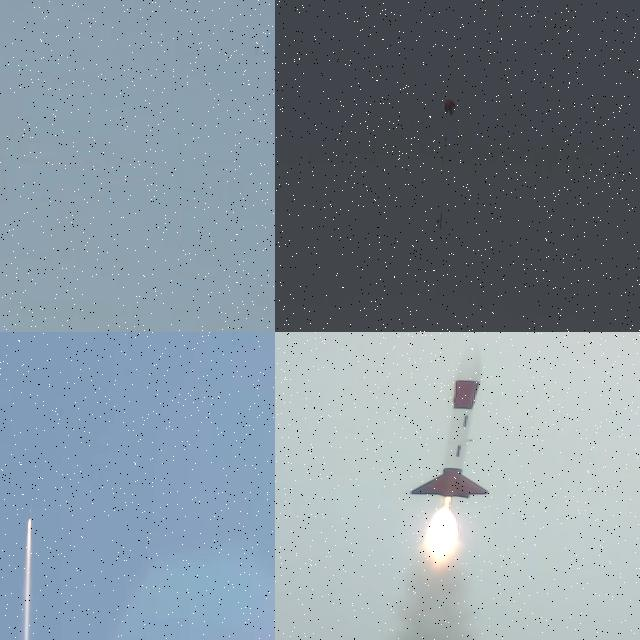Rocket: (409, 335, 489, 499), (28, 505, 32, 519)
